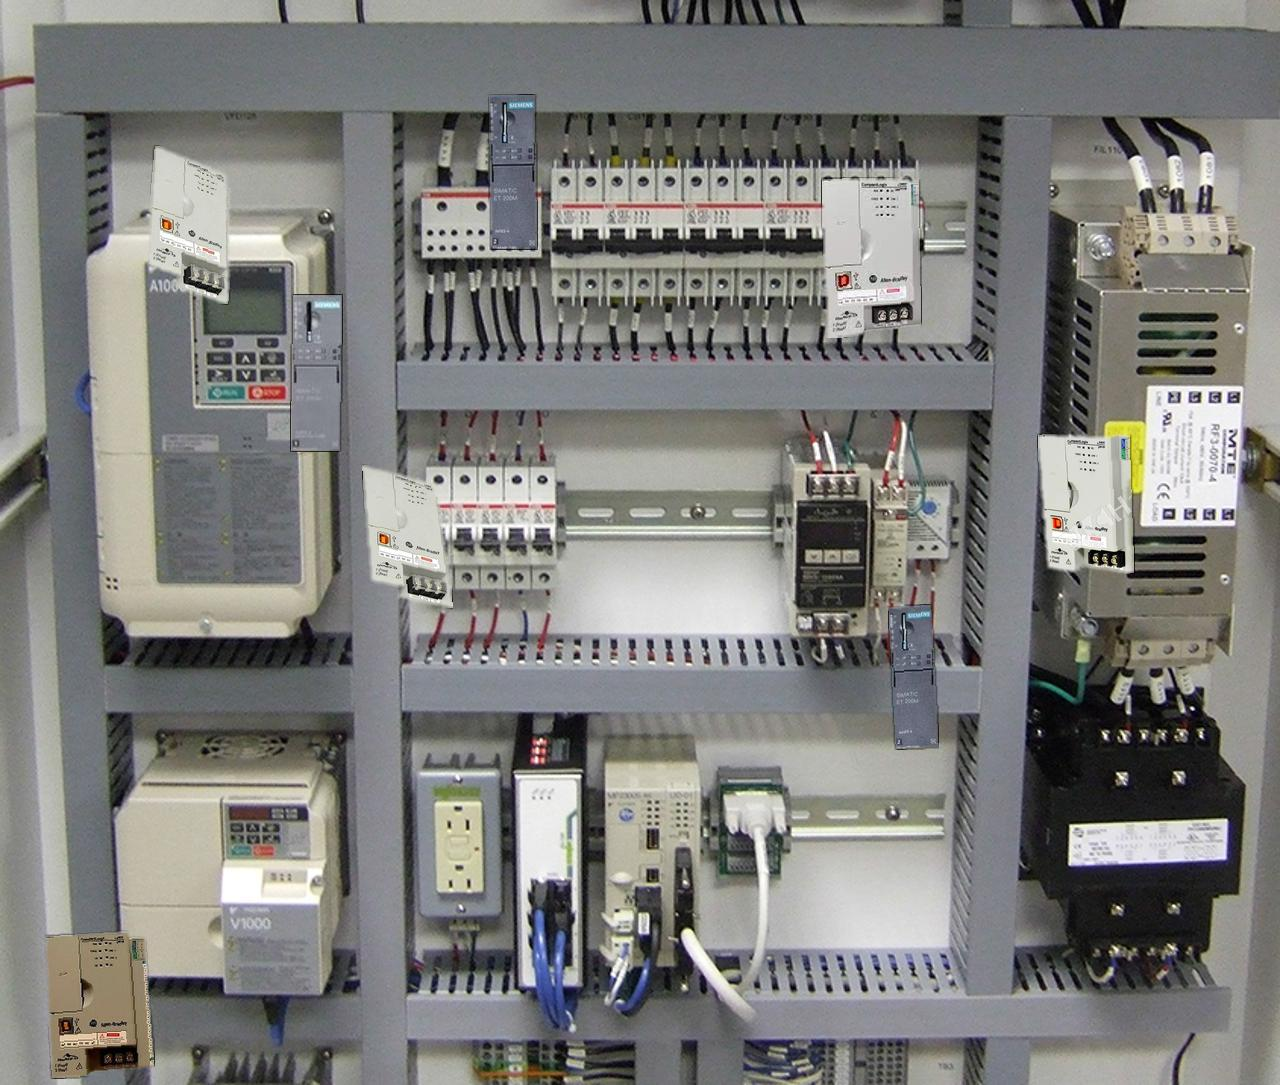AllenBradley: (822, 178, 920, 337), (46, 932, 153, 1077), (1038, 434, 1133, 572), (362, 465, 452, 607), (147, 146, 228, 302)
